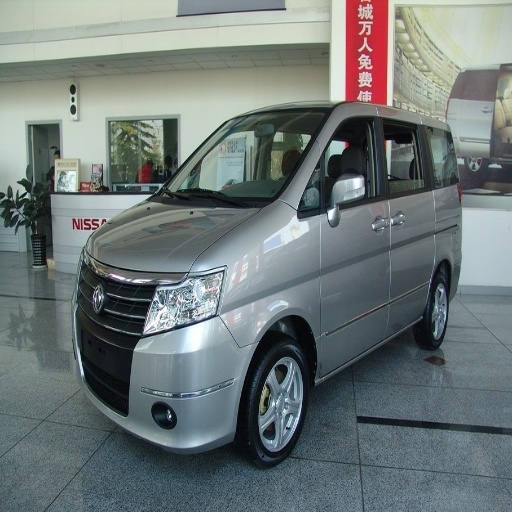front_bumper: (76, 255, 258, 451)
front_glass: (152, 111, 330, 205)
front_left_door: (299, 114, 390, 372)
tailgate: (2, 24, 177, 108)
trunk: (436, 216, 464, 271)
